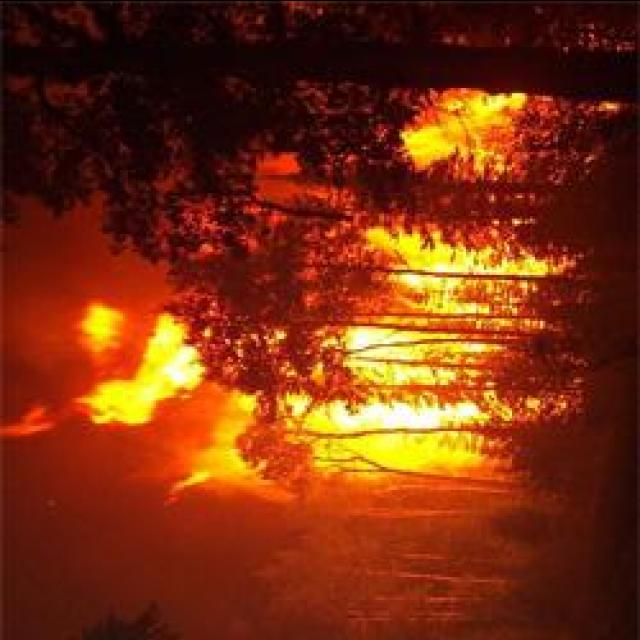fire: (310, 400, 488, 478), (83, 320, 203, 423), (399, 89, 536, 179), (372, 220, 548, 274)
smoke: (0, 273, 70, 381)
